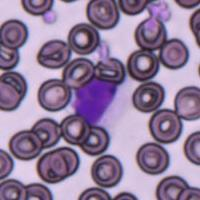M: (72, 77, 131, 127)
